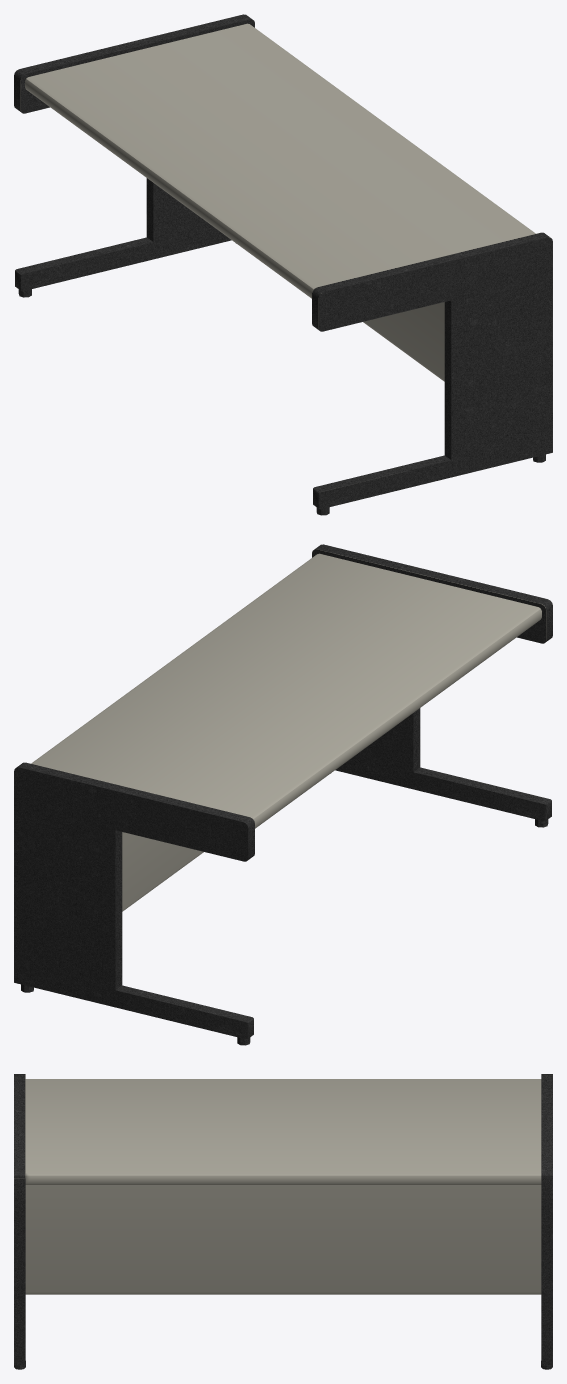
Rendered from table1.dae.
3 renders of one model, top to bottom at view 1: azimuth 30°, elevation 25°; view 2: azimuth 150°, elevation 25°; view 3: azimuth 270°, elevation 25°, orthographic. The views are drawn at different scales.
Parts seen in each view (by area): view 1: Cubo.003; view 2: Cubo.003; view 3: Cubo.003.
Part boxes in pixels (x1=…): Cubo.003: x1=14, y1=14, x2=552, y2=515; Cubo.003: x1=14, y1=544, x2=552, y2=1045; Cubo.003: x1=14, y1=1074, x2=552, y2=1369.
Bounding box in the file's own units: 0.8 × 1.8 × 0.7298.
